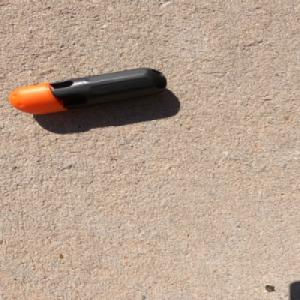PlasticPart: (7, 66, 168, 115)
